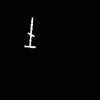double_crochet: (25, 18, 34, 47)
